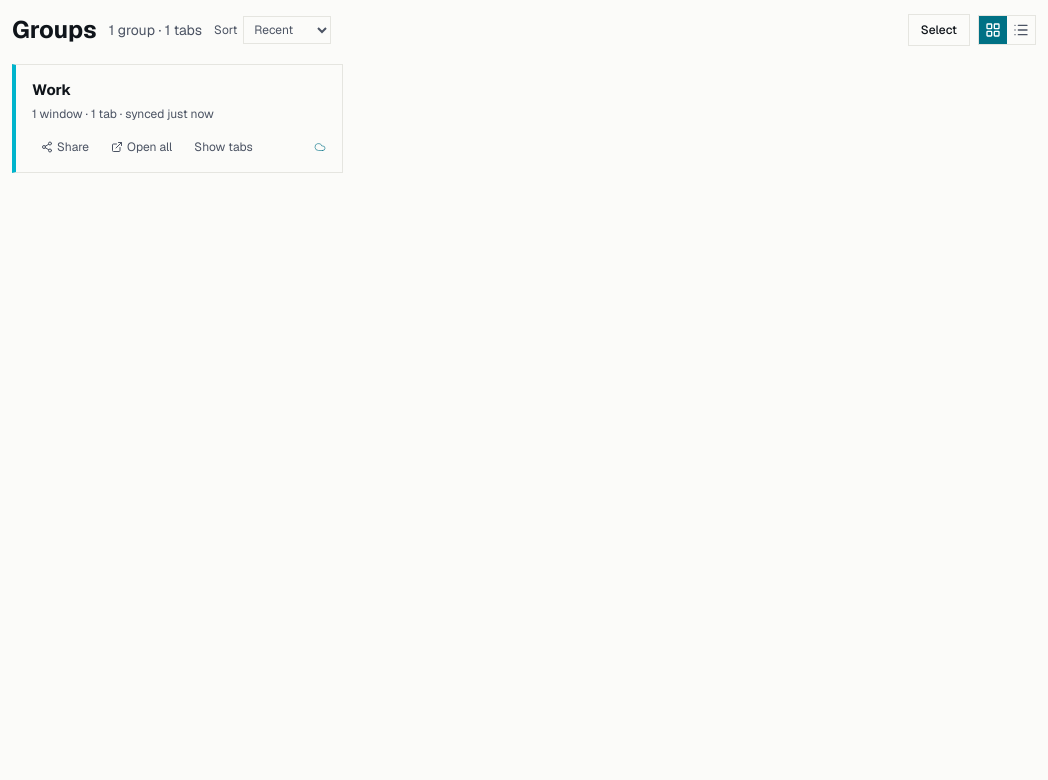
Scenario: locked group › offers no "Share selected" when the only selected group became unreadable
Click the button "Select": (939, 30) [908, 14, 970, 46]
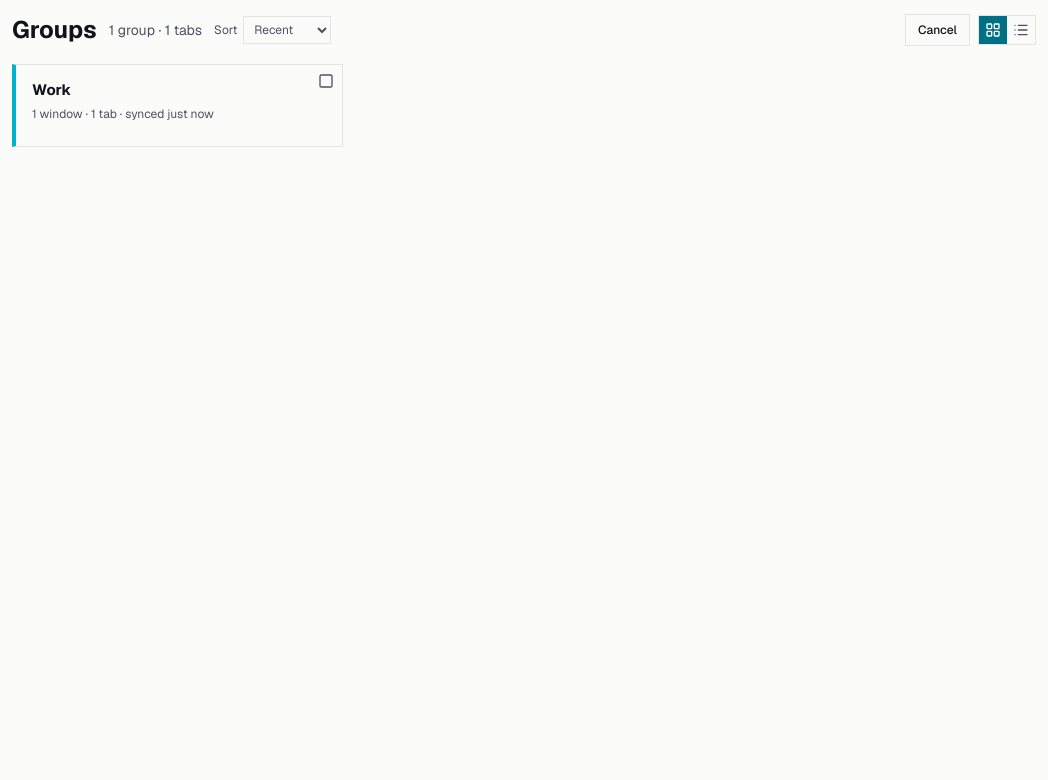
Click the text "Work": (52, 90) [32, 80, 71, 99]
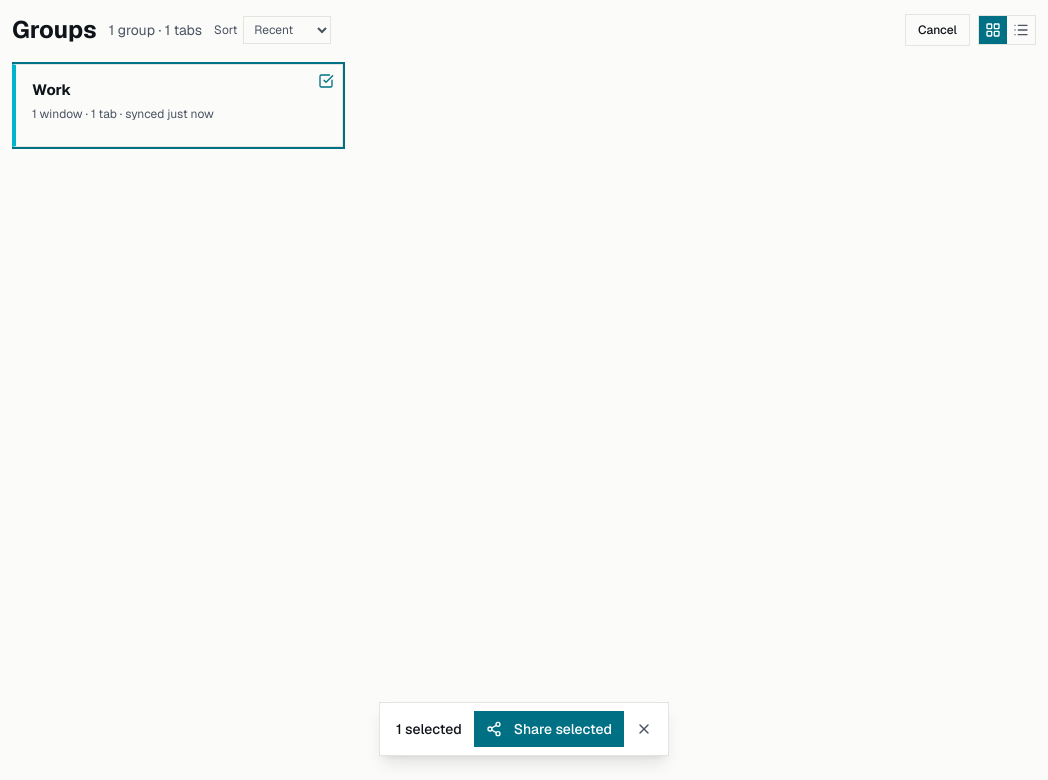
Expected: the button "Share selected" is shown, [474, 711, 624, 747]
